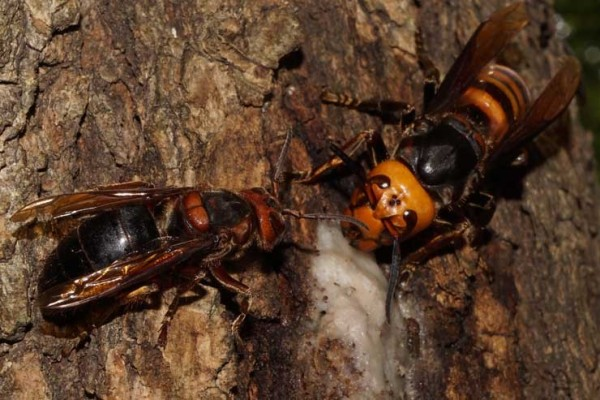asian_giant_hornet: (338, 64, 534, 260)
